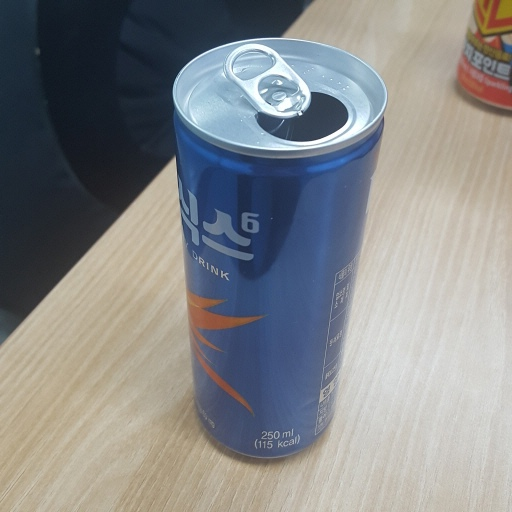Metal_0: (172, 35, 386, 466)
